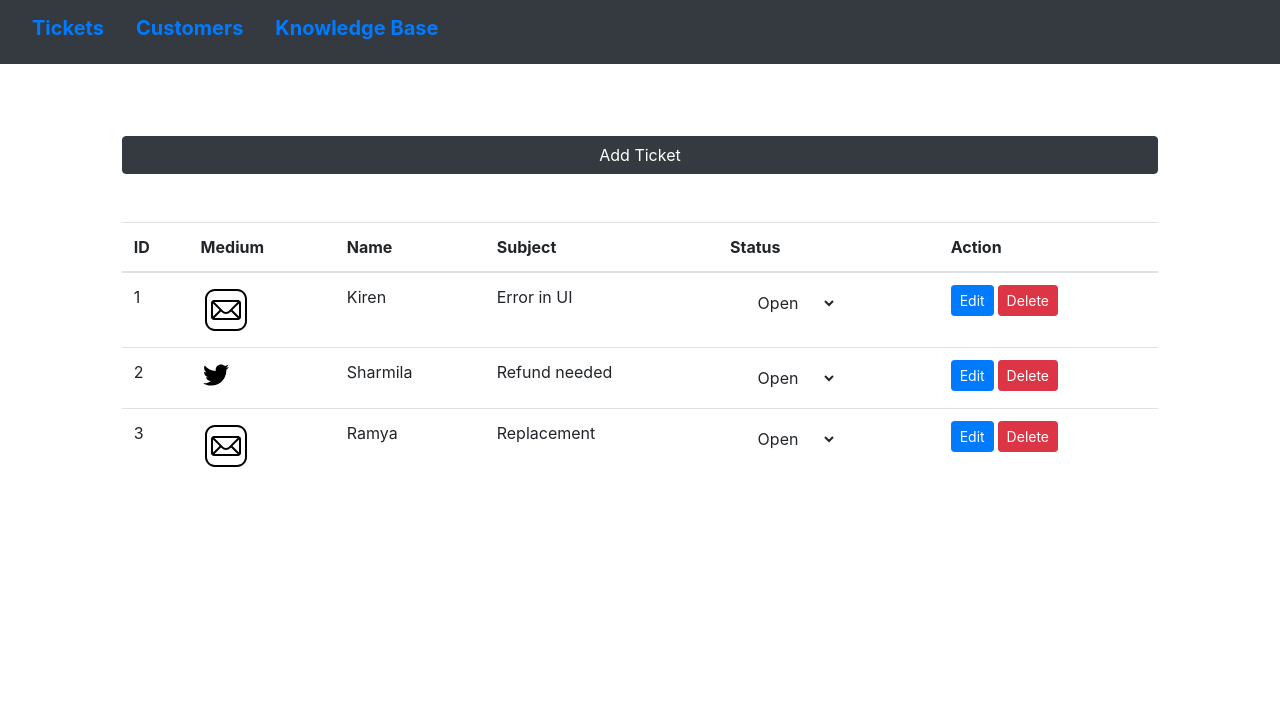
it: desk learning app Home Test › should add new ticket in the Home
Click the link "Add Ticket" at (641, 155), box [122,136,1159,174]
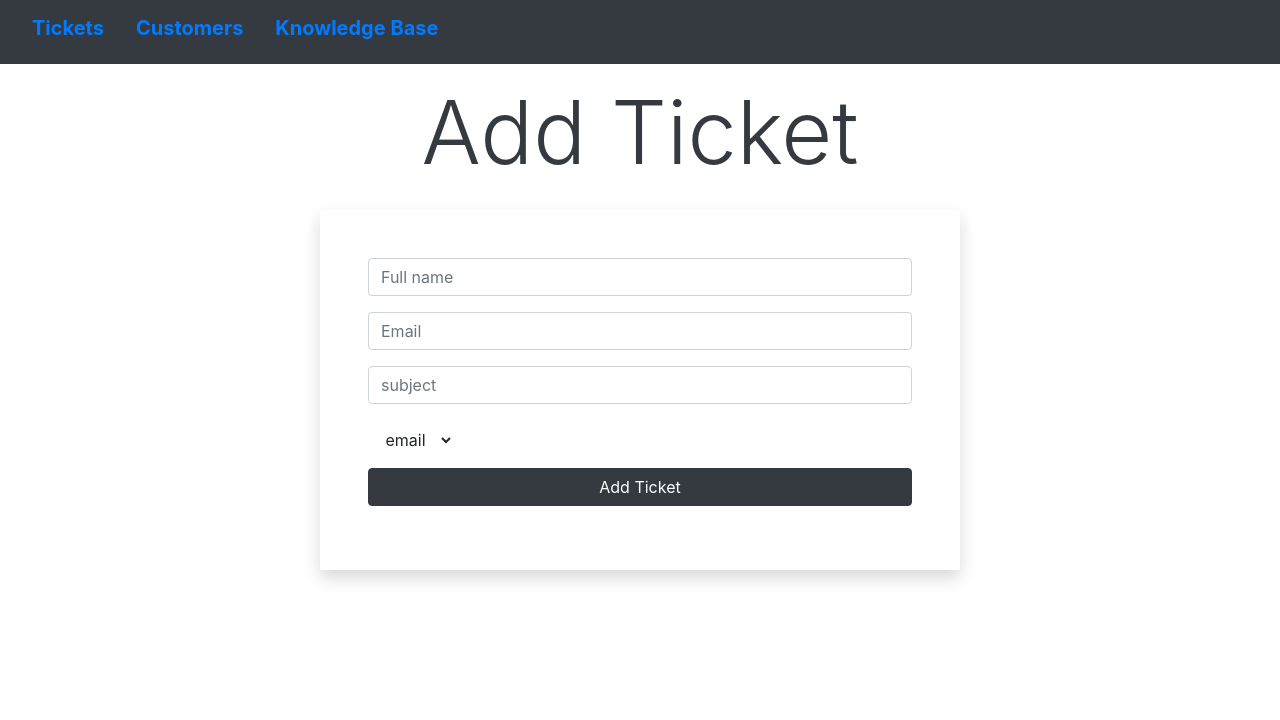
Type "Immanuel" into the field with placeholder "Full name" at (640, 277), box [368,258,912,296]
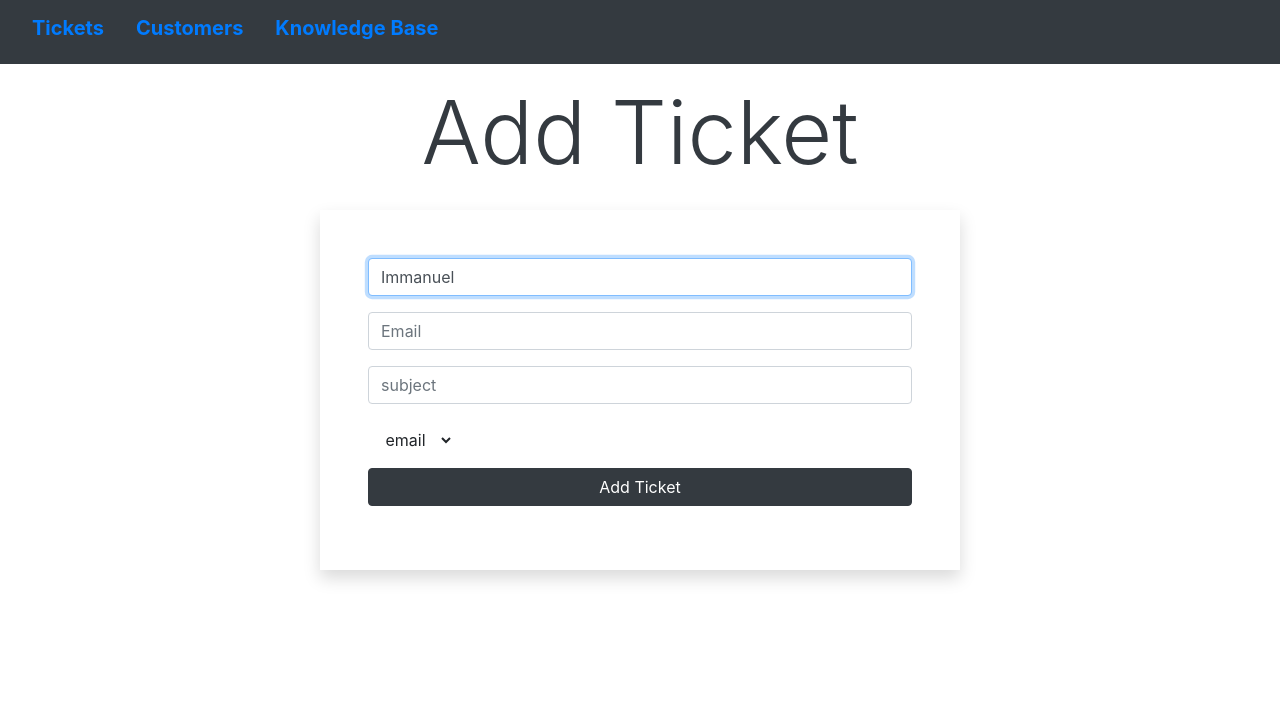
Type "silpmonk@gmail.com" into the field with placeholder "Email" at (640, 331), box [368,312,912,350]
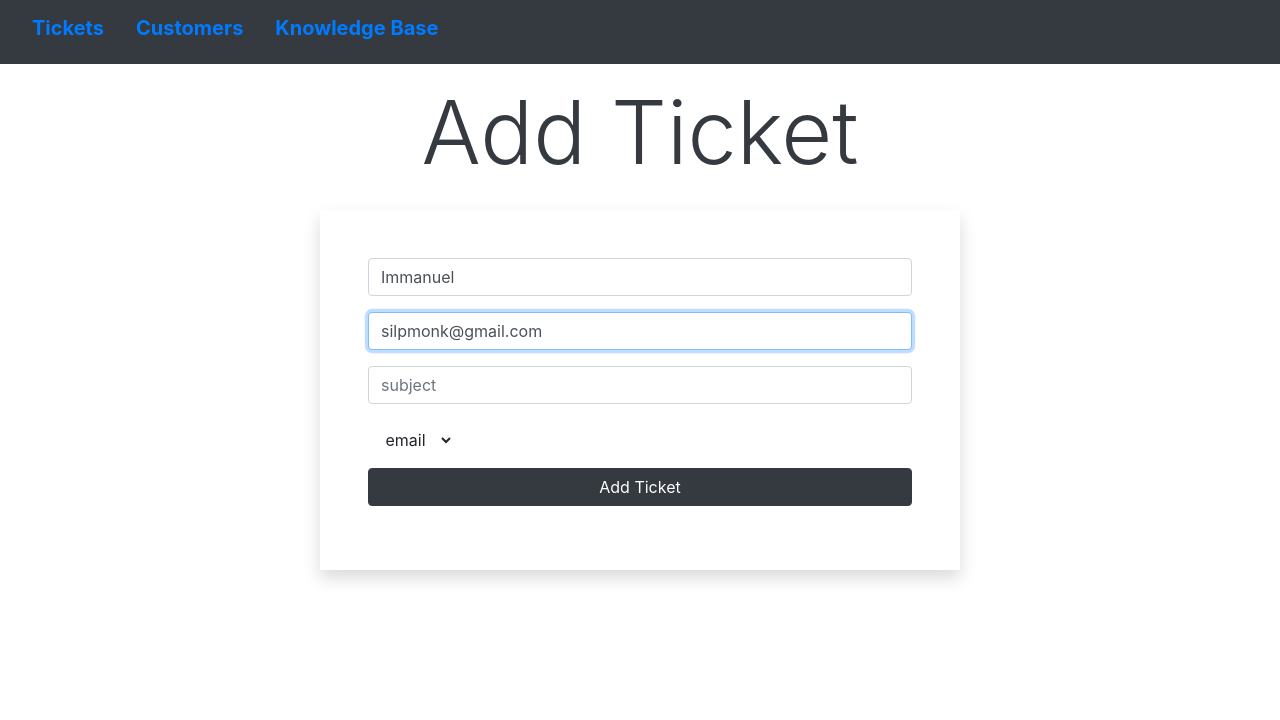
Type "Refund" into the field with placeholder "subject" at (640, 385), box [368,366,912,404]
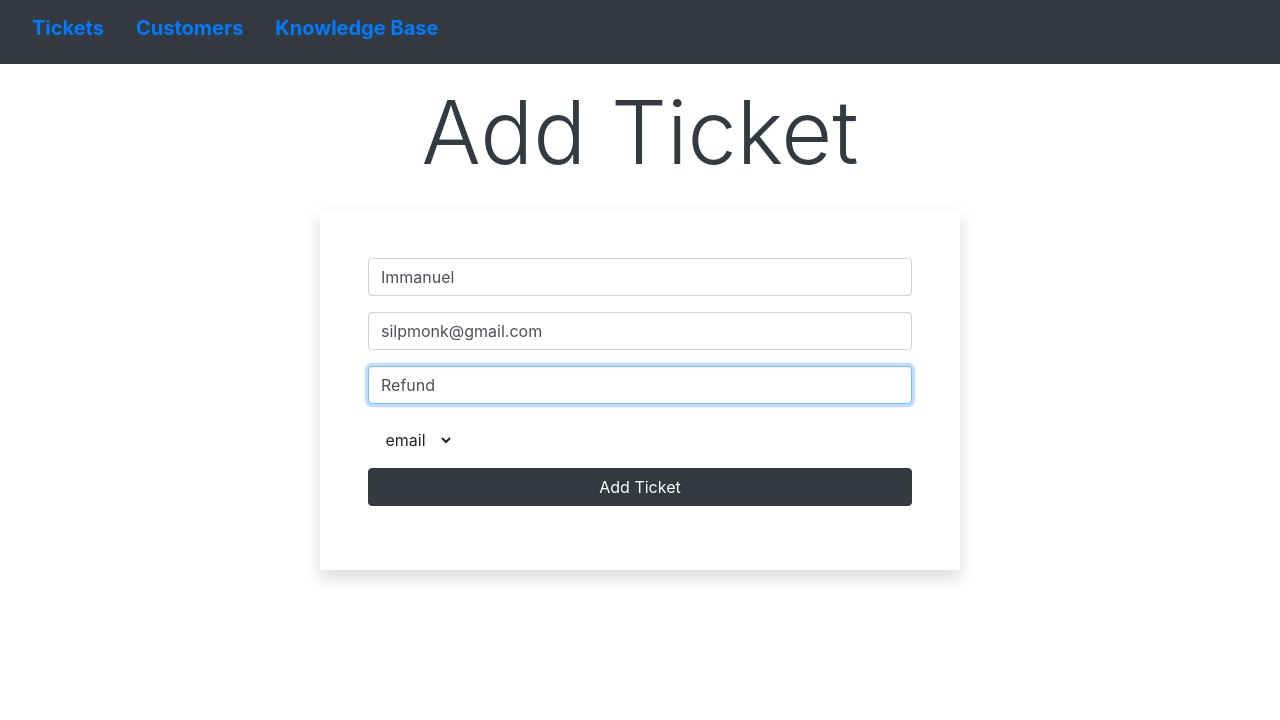
Select "twitter" in the dropdown at (412, 440), box [368,420,455,460]
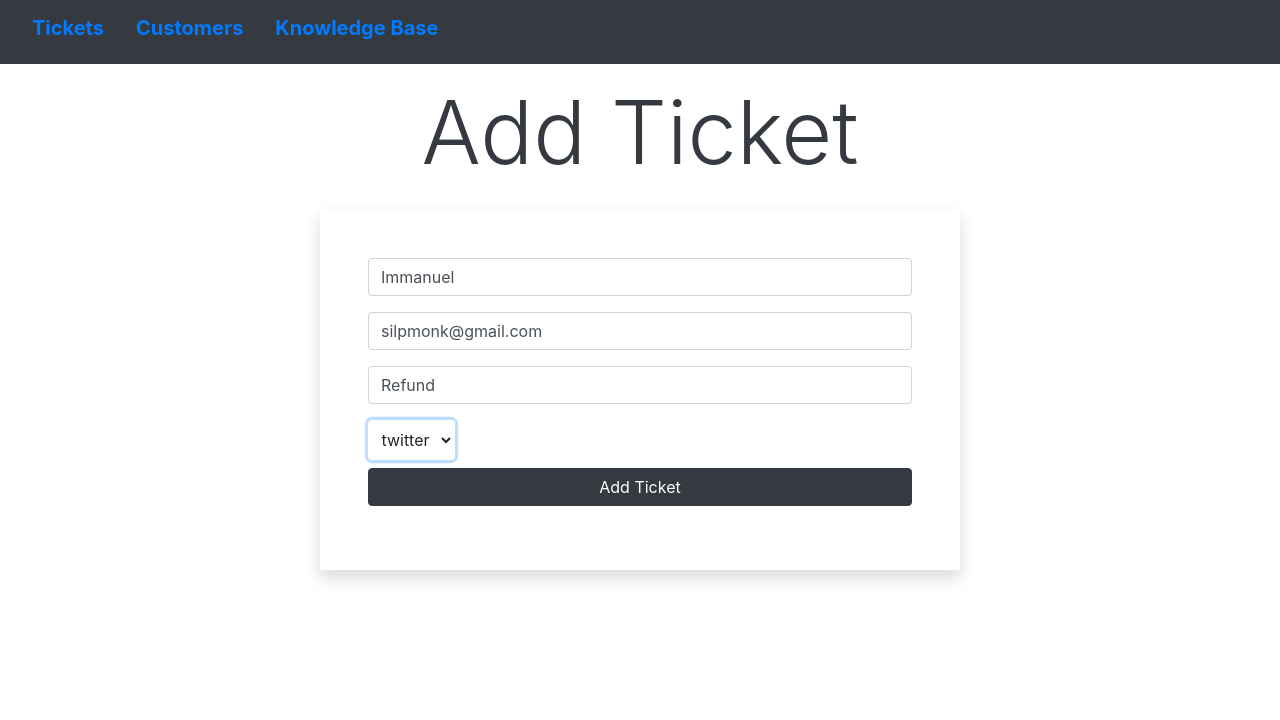
Click the button "Add Ticket" at (640, 487), box [368,468,912,506]
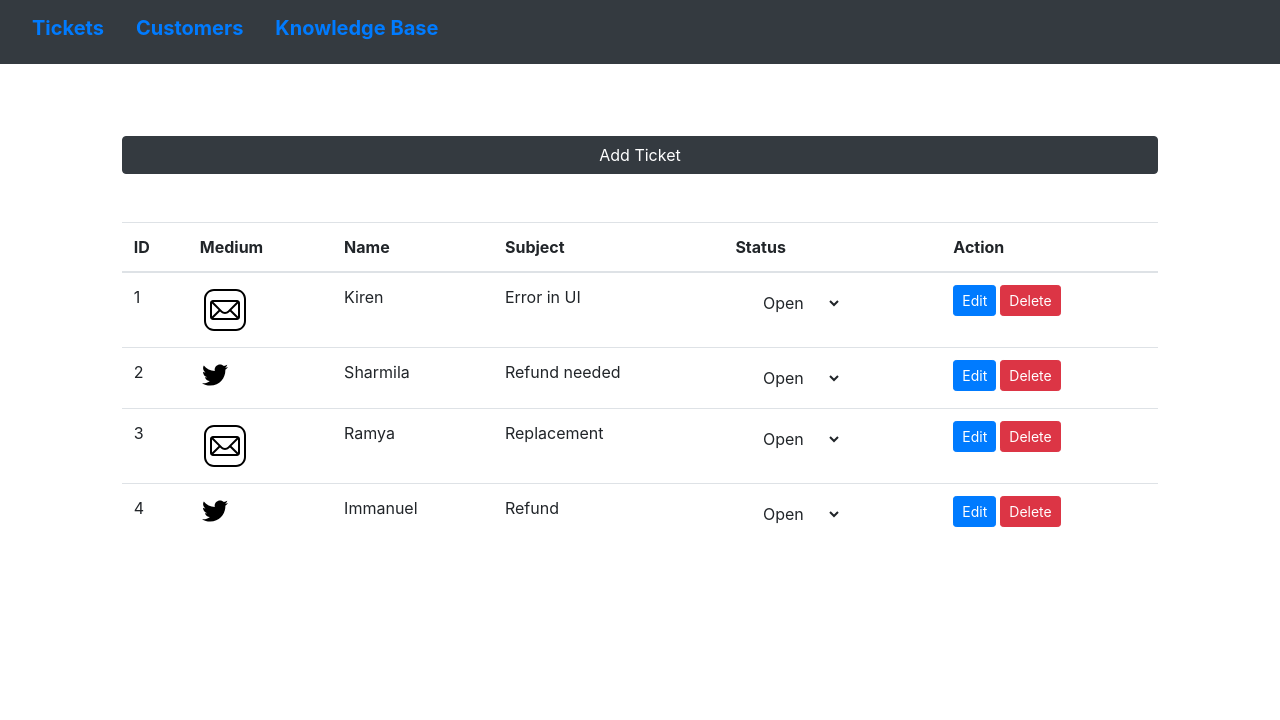
Now the text "Immanuel" is shown, box [332,484,493,544]
